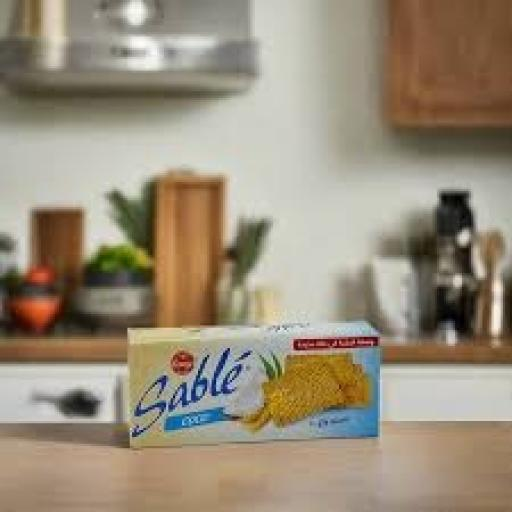sabl: (115, 303, 417, 512)
